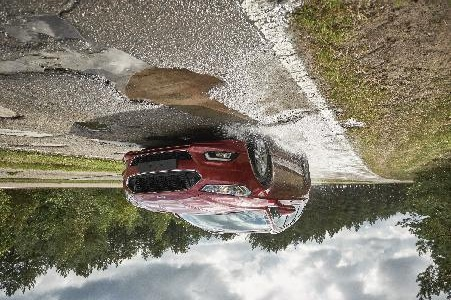pothole: (100, 65, 223, 107), (0, 126, 54, 139), (72, 120, 111, 133), (0, 104, 26, 121)
